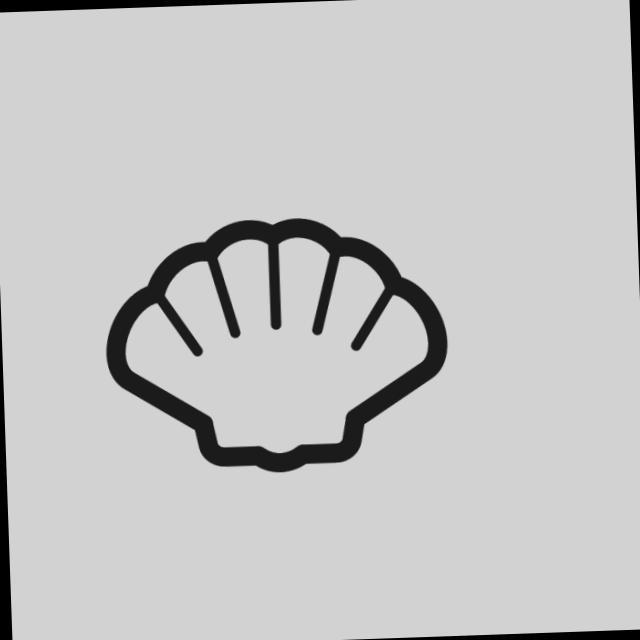shell: (97, 204, 460, 484)
